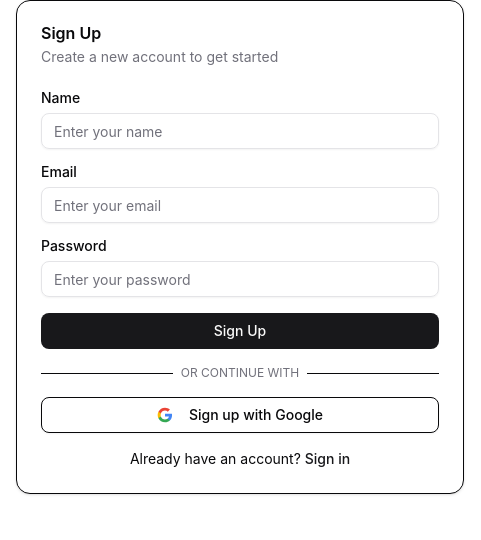
it: SignUpForm › shows validation error for short password
Type "John Doe" into the field with placeholder "Enter your name" at (240, 131), box [41,113,439,149]
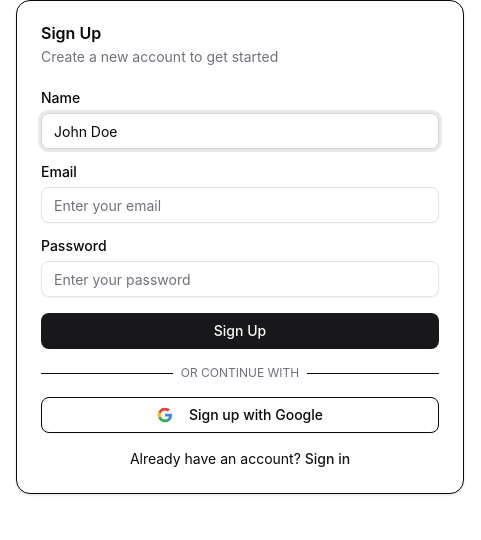
Type "test@example.com" into the field with placeholder "Enter your email" at (240, 205), box [41,187,439,223]
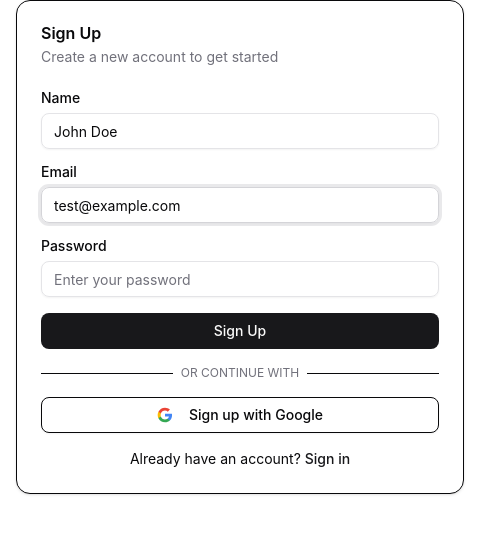
Type "123" into the password field with placeholder "Enter your password" at (240, 279), box [41,261,439,297]
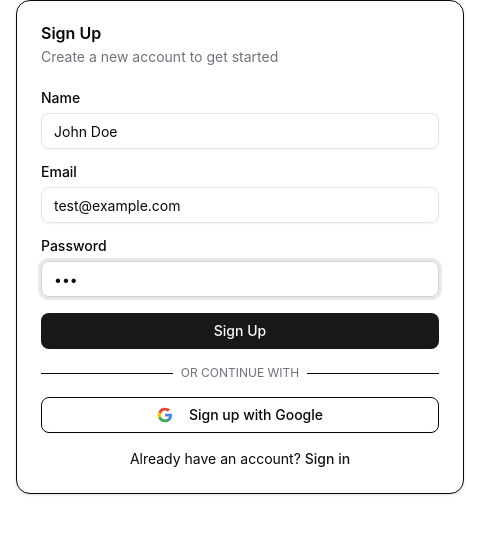
Click the button "Sign Up" at (240, 331), box [41,313,439,349]
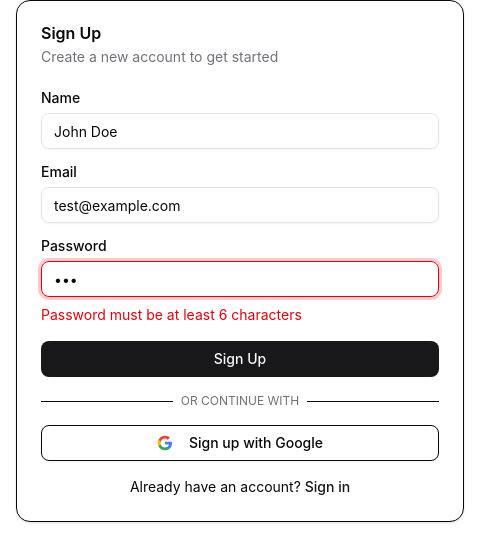
expect the text "Password must be at least 6 characters" is shown: met, box [41,306,302,323]
